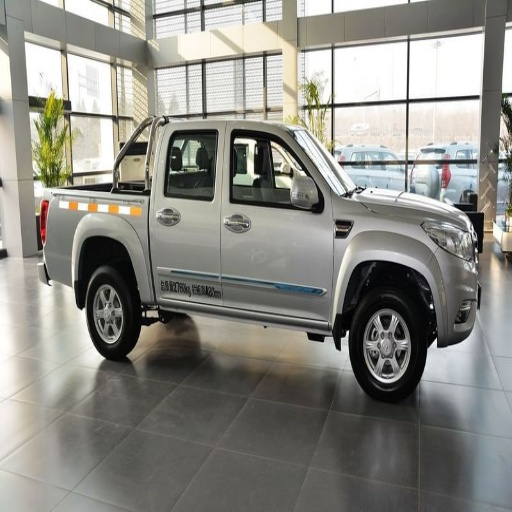back_right_door: (152, 127, 231, 303)
front_right_door: (221, 127, 333, 319)
trunk: (41, 196, 150, 300)
